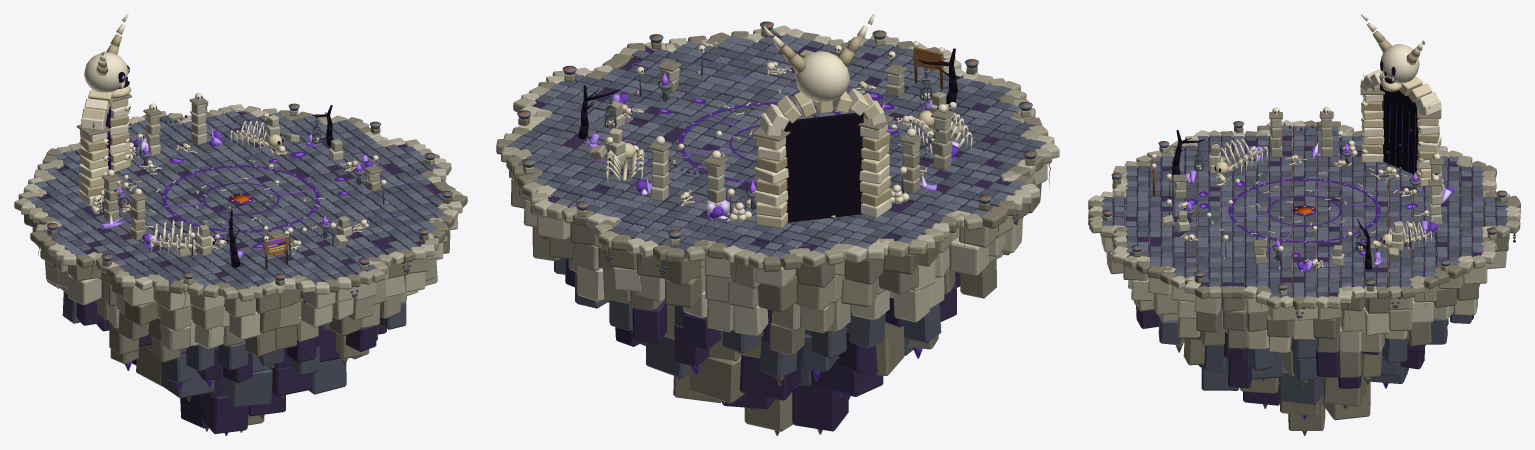
The model's file is boss-ile.glb.
The picture shows the model from 3 angles, left to right: view 1: azimuth 30°, elevation 25°; view 2: azimuth 150°, elevation 25°; view 3: azimuth 270°, elevation 25°; orthographic projection. The views are drawn at different scales.
Visible parts, largest first — view 1: pierre_fond.084, pierre_fond.088, crane.008, pierre_fond.154, pierre_fond.122, pierre_fond.049, pierre.005, pierre_fond.045, pierre_fond.054, pierre.065, pierre.021, pierre.035 (+23 smaller); view 2: passage, pierre_fond.079, crane.008, pierre_fond.102, pierre_fond.069, pierre_fond.041, pierre_fond.113, pierre_fond.127, pierre.001, pierre_fond.136, pierre_fond, pierre_fond.045 (+37 smaller); view 3: passage, pierre_fond.180, crane.008, pierre_fond.176, pierre_fond.141, pierre_fond.196, pierre_fond.113, pierre_fond.154, pierre_fond.213, pierre_fond.186, pierre_fond.215, pierre_fond.200 (+26 smaller).
Boxes of the visible parts, x1=… form: pierre_fond.084: x1=201, y1=394, x2=248, y2=433; pierre_fond.088: x1=222, y1=369, x2=272, y2=407; crane.008: x1=84, y1=52, x2=128, y2=92; pierre_fond.154: x1=309, y1=358, x2=346, y2=394; pierre_fond.122: x1=271, y1=366, x2=312, y2=396; pierre_fond.049: x1=161, y1=362, x2=214, y2=398; pierre.005: x1=68, y1=274, x2=101, y2=305; pierre_fond.045: x1=136, y1=346, x2=161, y2=386; pierre_fond.054: x1=218, y1=339, x2=248, y2=370; pierre.065: x1=229, y1=311, x2=260, y2=339; pierre.021: x1=124, y1=299, x2=157, y2=325; pierre.035: x1=159, y1=303, x2=191, y2=331; passage: x1=784, y1=113, x2=863, y2=222; pierre_fond.079: x1=792, y1=385, x2=848, y2=431; crane.008: x1=794, y1=51, x2=849, y2=102; pierre_fond.102: x1=689, y1=356, x2=744, y2=403; pierre_fond.069: x1=740, y1=347, x2=802, y2=400; pierre_fond.041: x1=810, y1=347, x2=877, y2=394; pierre_fond.113: x1=744, y1=392, x2=793, y2=431; pierre_fond.127: x1=632, y1=300, x2=666, y2=343; pierre.001: x1=949, y1=237, x2=989, y2=276; pierre_fond.136: x1=646, y1=337, x2=689, y2=378; pierre_fond: x1=893, y1=286, x2=929, y2=322; pierre_fond.045: x1=876, y1=325, x2=904, y2=375; passage: x1=1380, y1=84, x2=1418, y2=174; pierre_fond.180: x1=1279, y1=366, x2=1324, y2=404; crane.008: x1=1380, y1=44, x2=1419, y2=83; pierre_fond.176: x1=1323, y1=377, x2=1366, y2=406; pierre_fond.141: x1=1323, y1=381, x2=1370, y2=420; pierre_fond.196: x1=1228, y1=357, x2=1251, y2=388; pierre_fond.113: x1=1288, y1=403, x2=1325, y2=430; pierre_fond.154: x1=1201, y1=364, x2=1239, y2=390; pierre_fond.213: x1=1338, y1=350, x2=1362, y2=377; pierre_fond.186: x1=1204, y1=345, x2=1228, y2=372; pierre_fond.215: x1=1316, y1=350, x2=1339, y2=377; pierre_fond.200: x1=1382, y1=336, x2=1407, y2=362.
Size of the model in its own units: 36.2 by 34.26 by 36.2.
